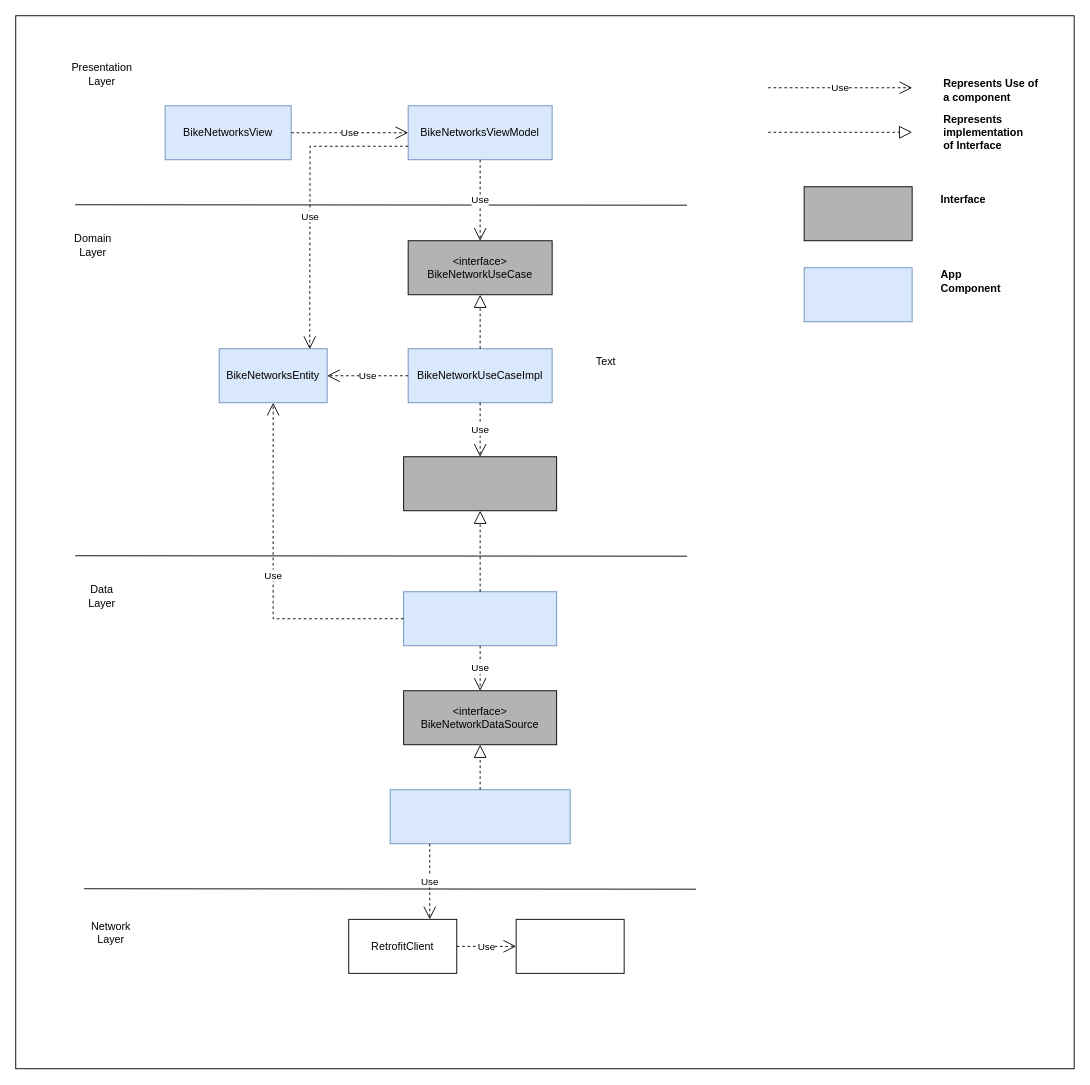
Image size: 1090x1085. Some labels were removed from this diagram. Each missing label, with the centre of its shape:
<interface> BikeNetworkRepository: [480,483]
BikeNetworkRemoteDataSource: [479,816]
BikeNetworkRepository: [480,618]
BikeNetworkService: [569,945]
